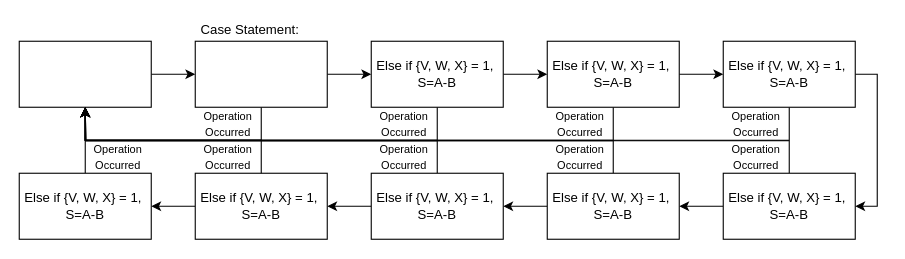
This 905x259 diagram has some shape labels left out. The shapes that lost their labels are listed below. From the top down, each one's box as (x1, y1, x2, y2) in pixels, then its label:
(18, 40, 151, 107): Wait for change in V, W, X, A, or B
(194, 40, 327, 107): If {V, W, X} = 0, S=A+B
